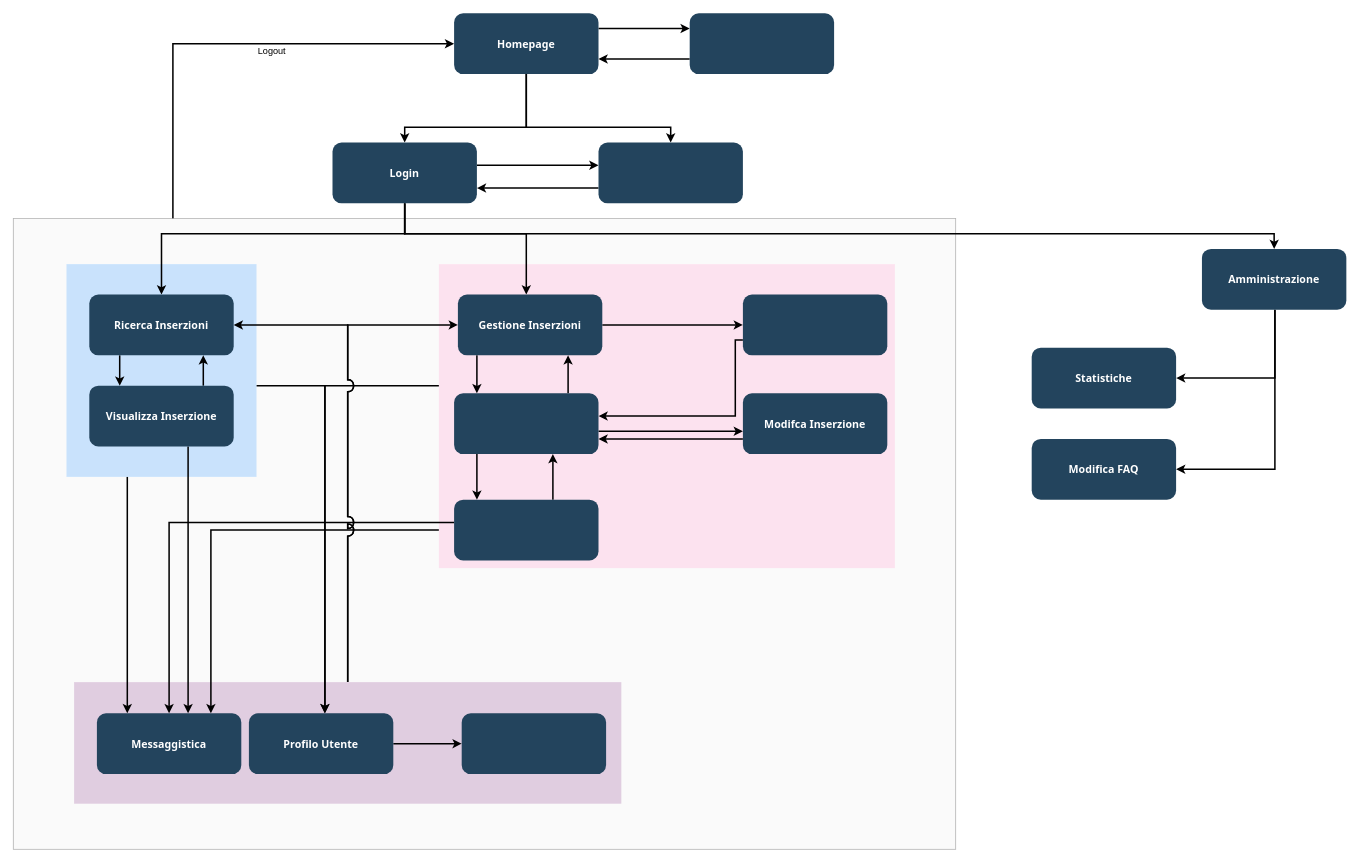
Some shapes in this 1360 by 863 pixel diagram are drawn without their labels. The shapes that lost their labels are listed below. From the top down, each one's centre as x and y in pixels, then its label:
At [761,43]: "FAQ".
At [670,172]: "Signup".
At [815,324]: "Nuova Inserzione".
At [526,423]: "Visualliza Inserzione".
At [526,529]: "Visualizza Richieste".
At [533,743]: "Modifica Profilo".
